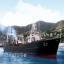fishing boat: (1, 16, 62, 59)
